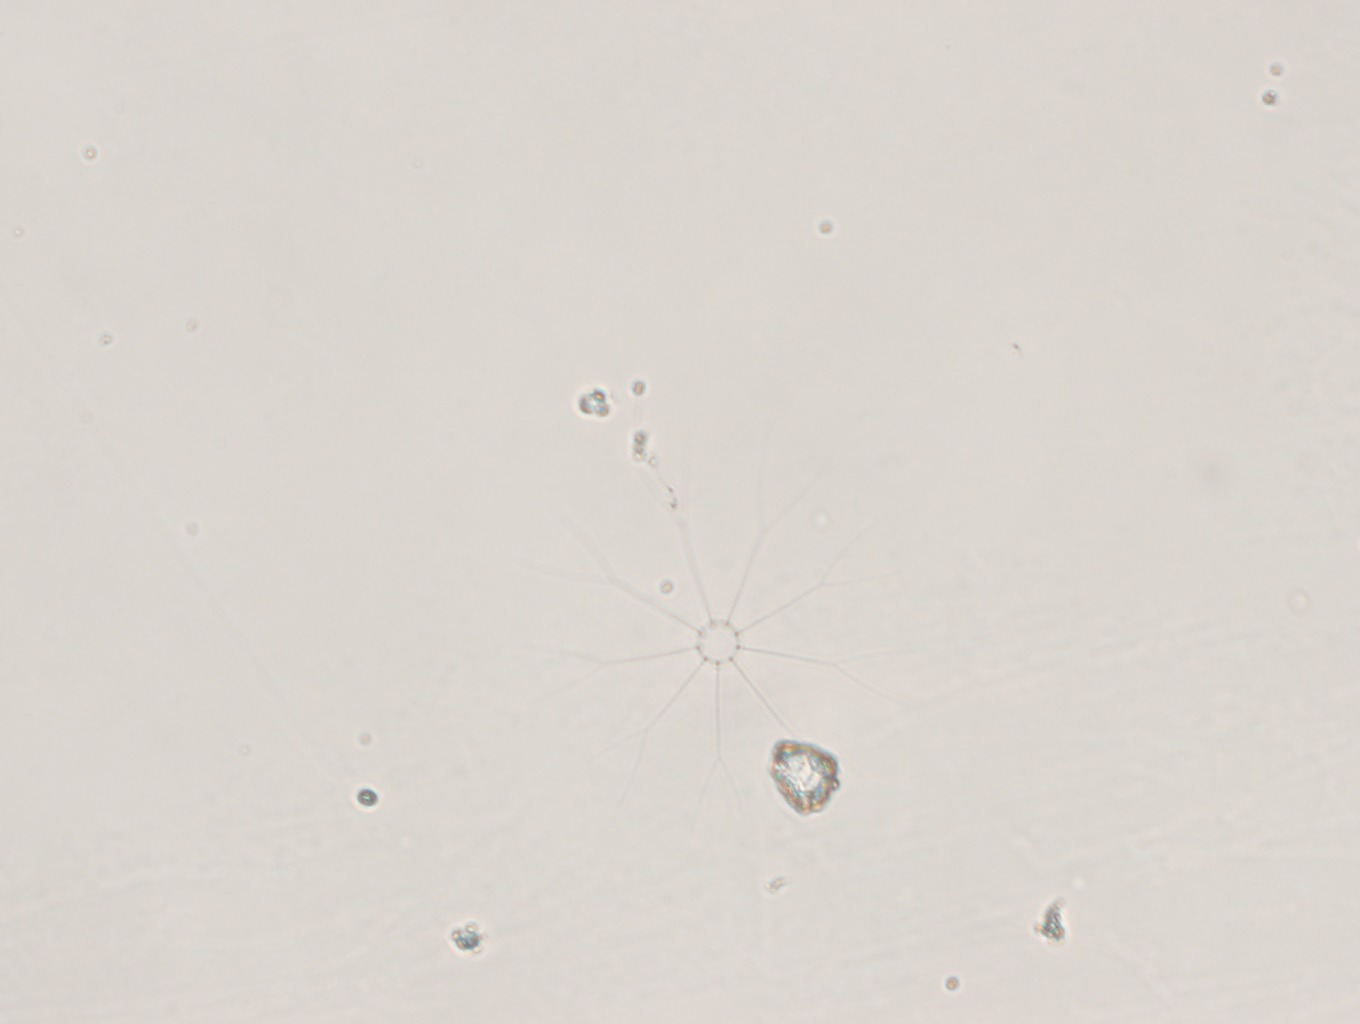bacteriastrum: (561, 485, 887, 805)
